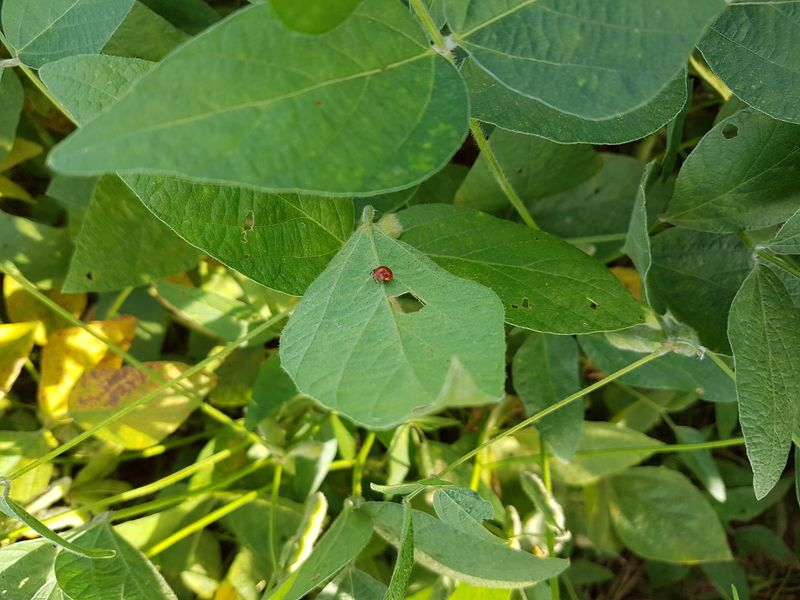Coccinellidae: (361, 254, 403, 294)
